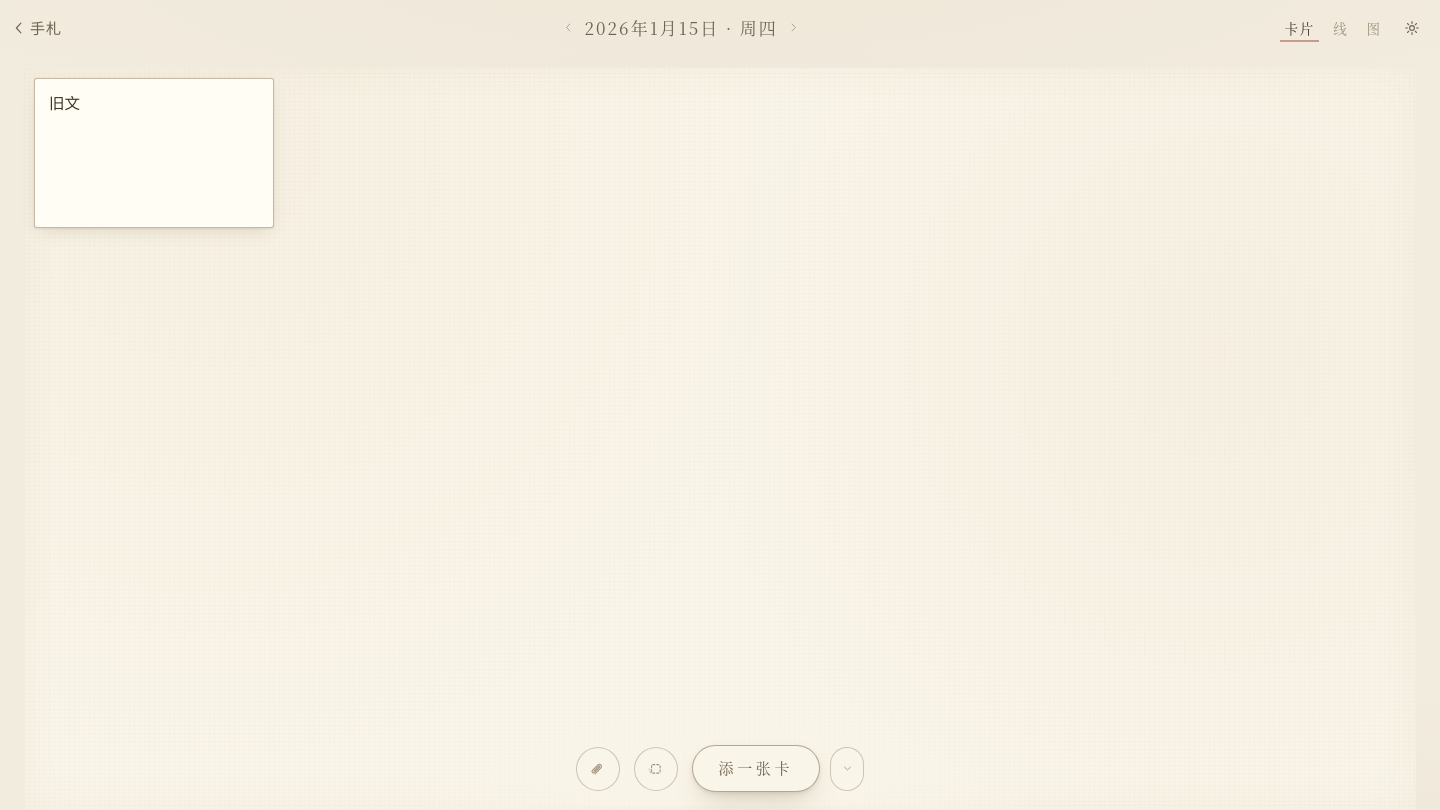
it: ⌘ 键补全（守门矩阵：写字第上不开火，Esc 与 ⌘F 是仅有的两条例外） › given 编辑框正持焦 when ⌘F then 搜索纸片照样开闸（唯一在字上仍开的键）
Step 1. Double-click the text with class "bj-text-read" → (64, 103), box x1=49 y1=92 x2=80 y2=114
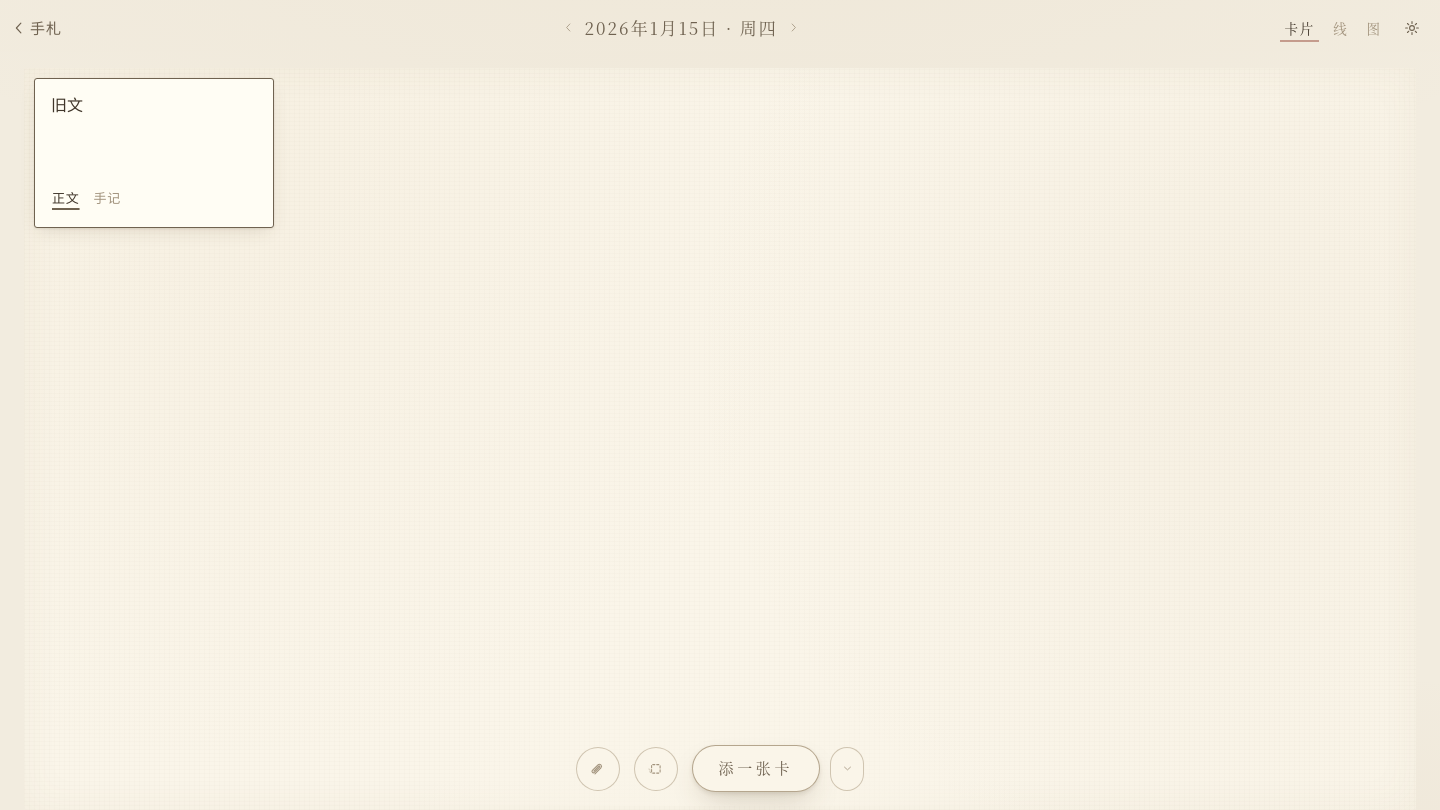
Step 2. Press f in the text box, box x1=49 y1=91 x2=259 y2=179
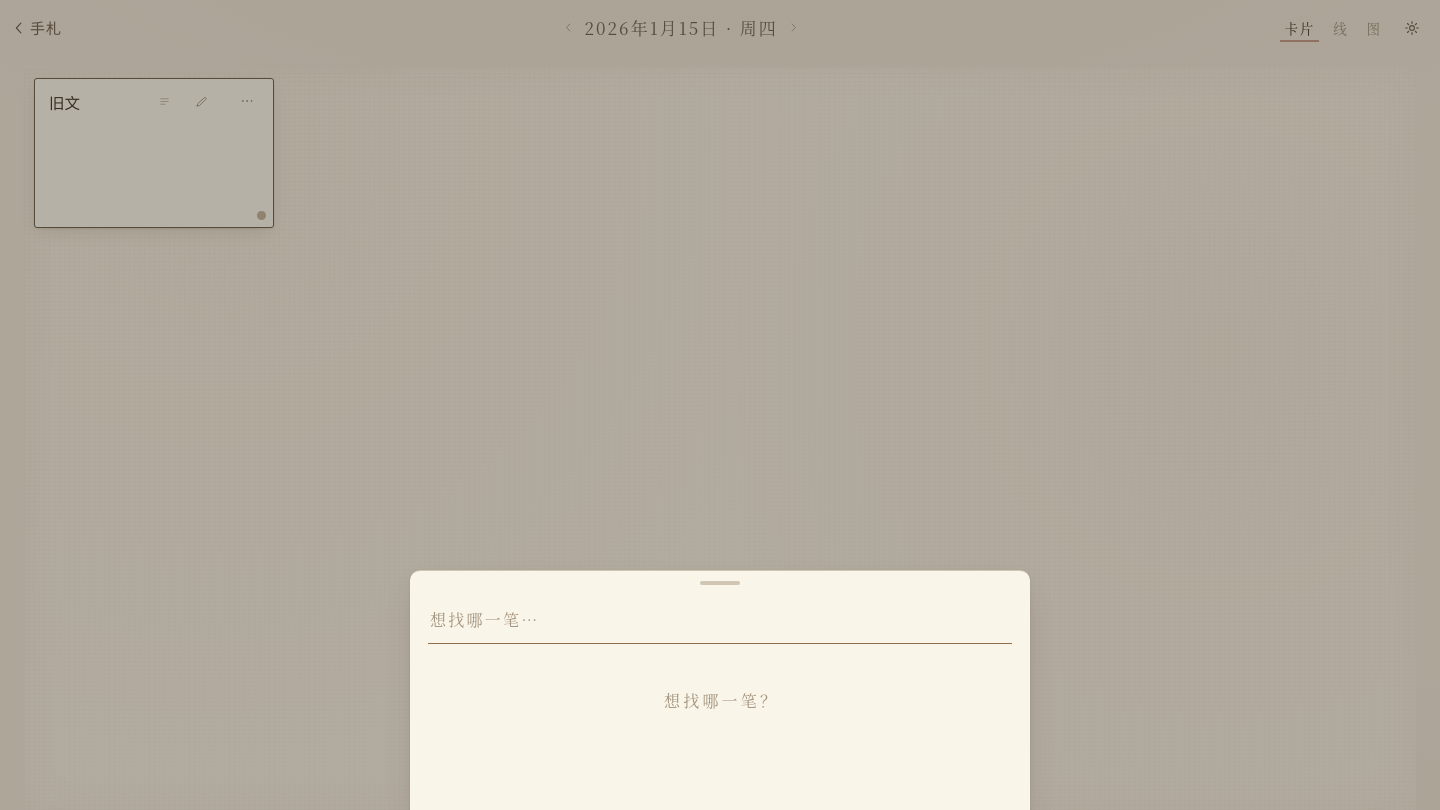
Check: the dialog is shown, box x1=410 y1=570 x2=1030 y2=809
